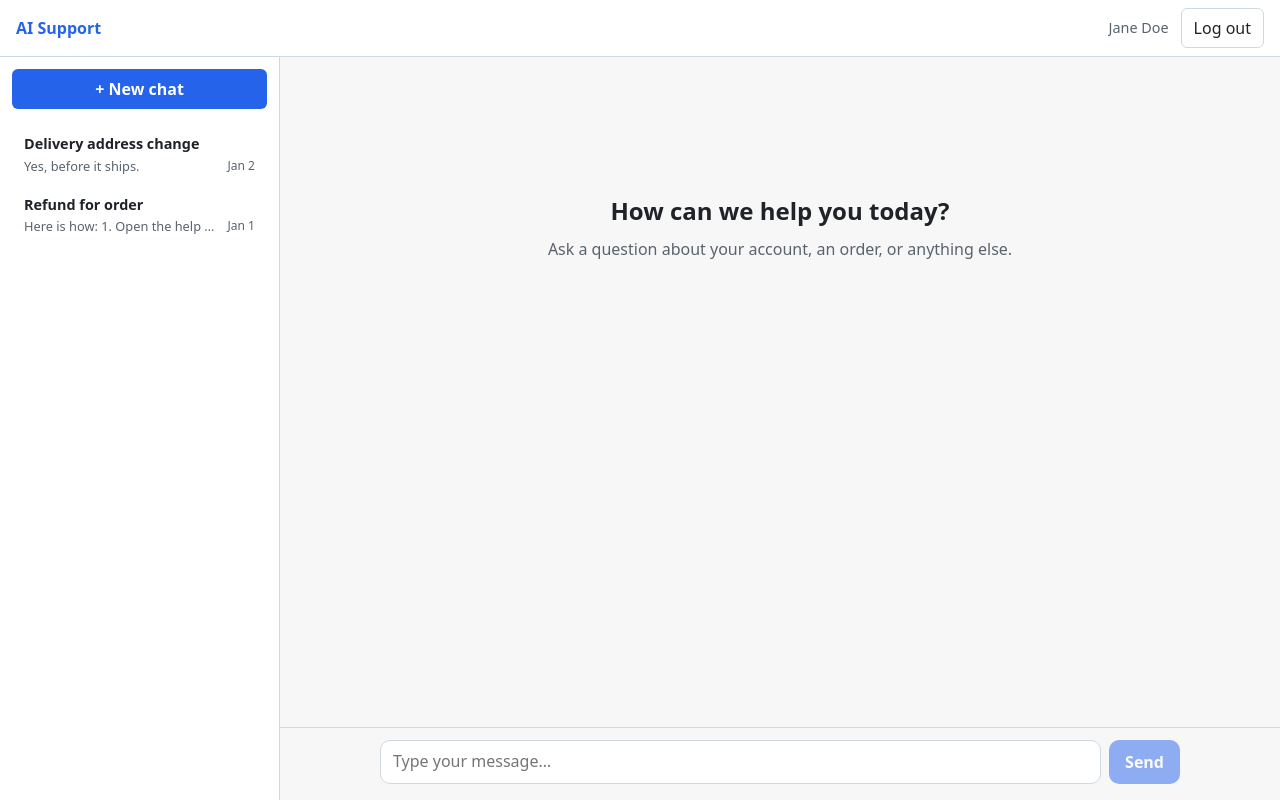
Scenario: Opening a conversation (UI-04, UI-03) › UI-04: clicking a conversation opens it at /c/:id and highlights it
Expected: the button "Log out" is shown, x1=1181 y1=8 x2=1264 y2=48
Click the link "Refund for order": (140, 215) x1=12 y1=186 x2=267 y2=245
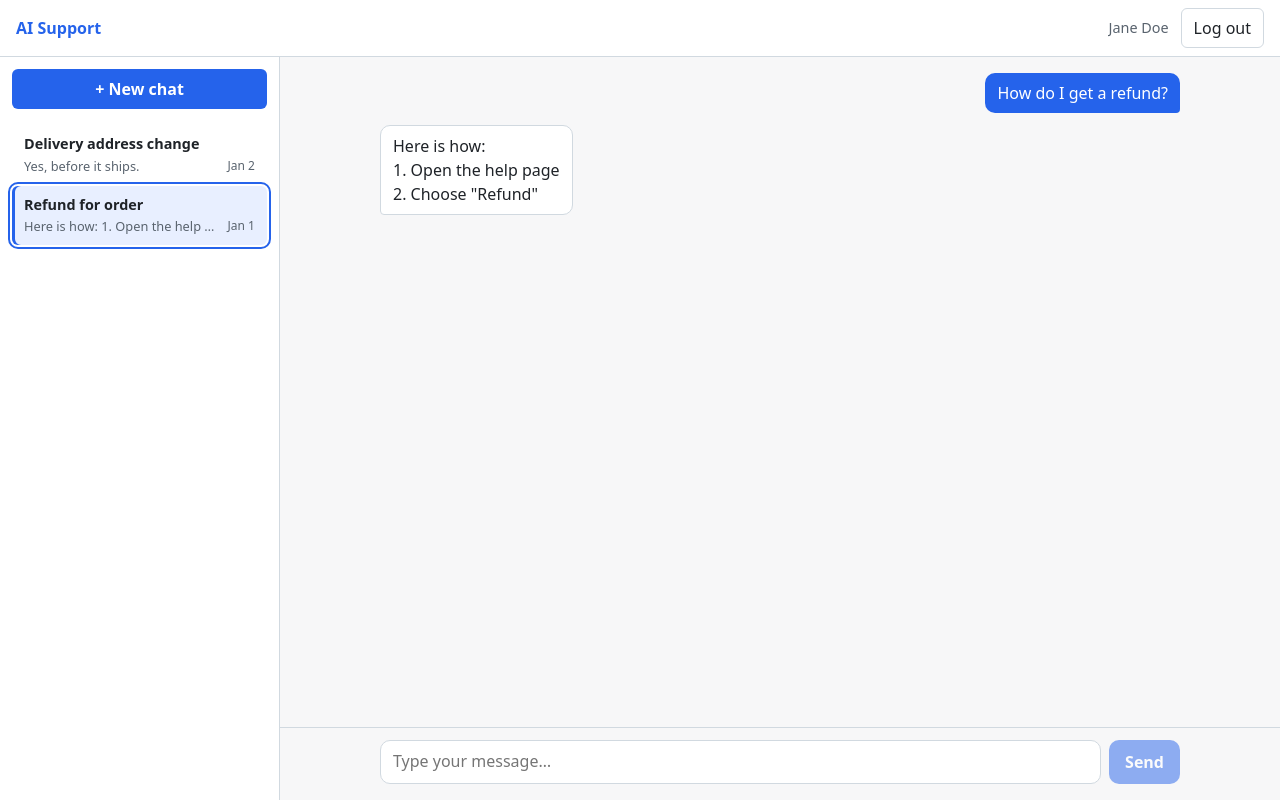
Expected: the text "How do I get a refund?" is shown, x1=986 y1=73 x2=1180 y2=113
